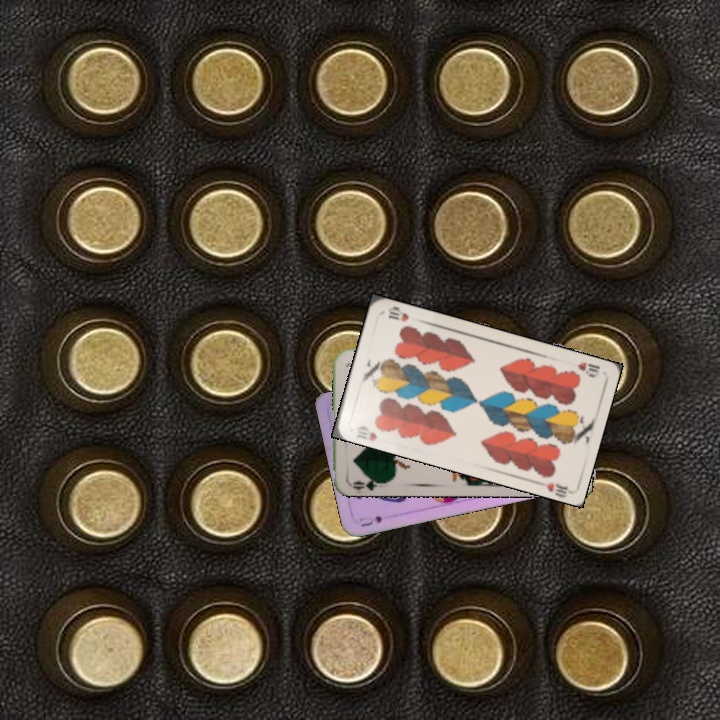GO: (347, 472, 387, 491)
H10: (574, 358, 603, 380), (352, 421, 380, 443)
SU: (355, 512, 385, 529)
